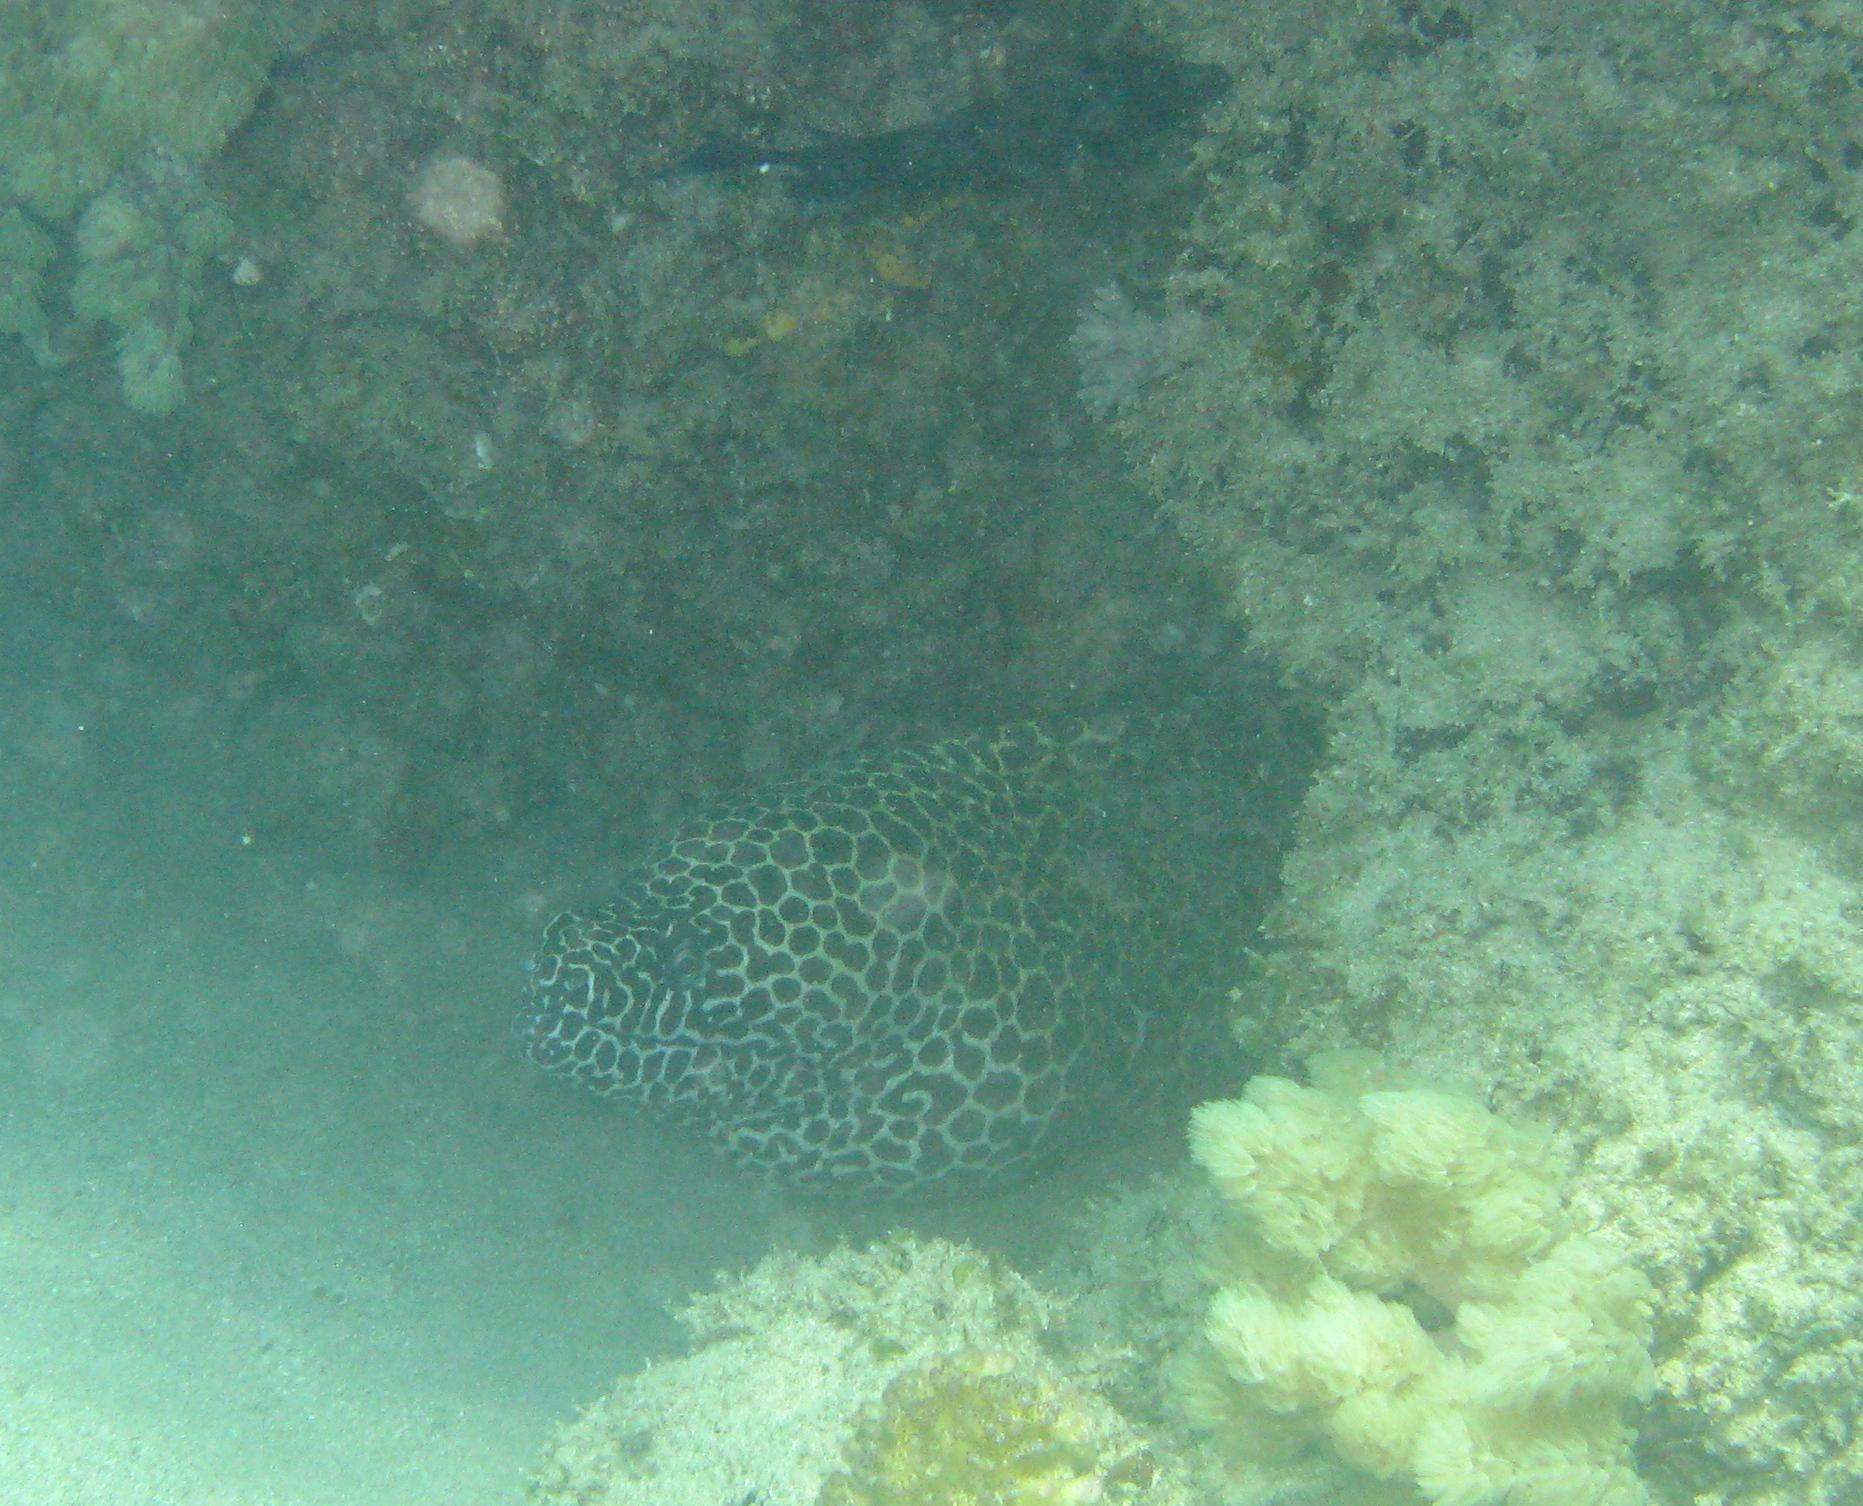Fish: (501, 678, 1343, 1223)
